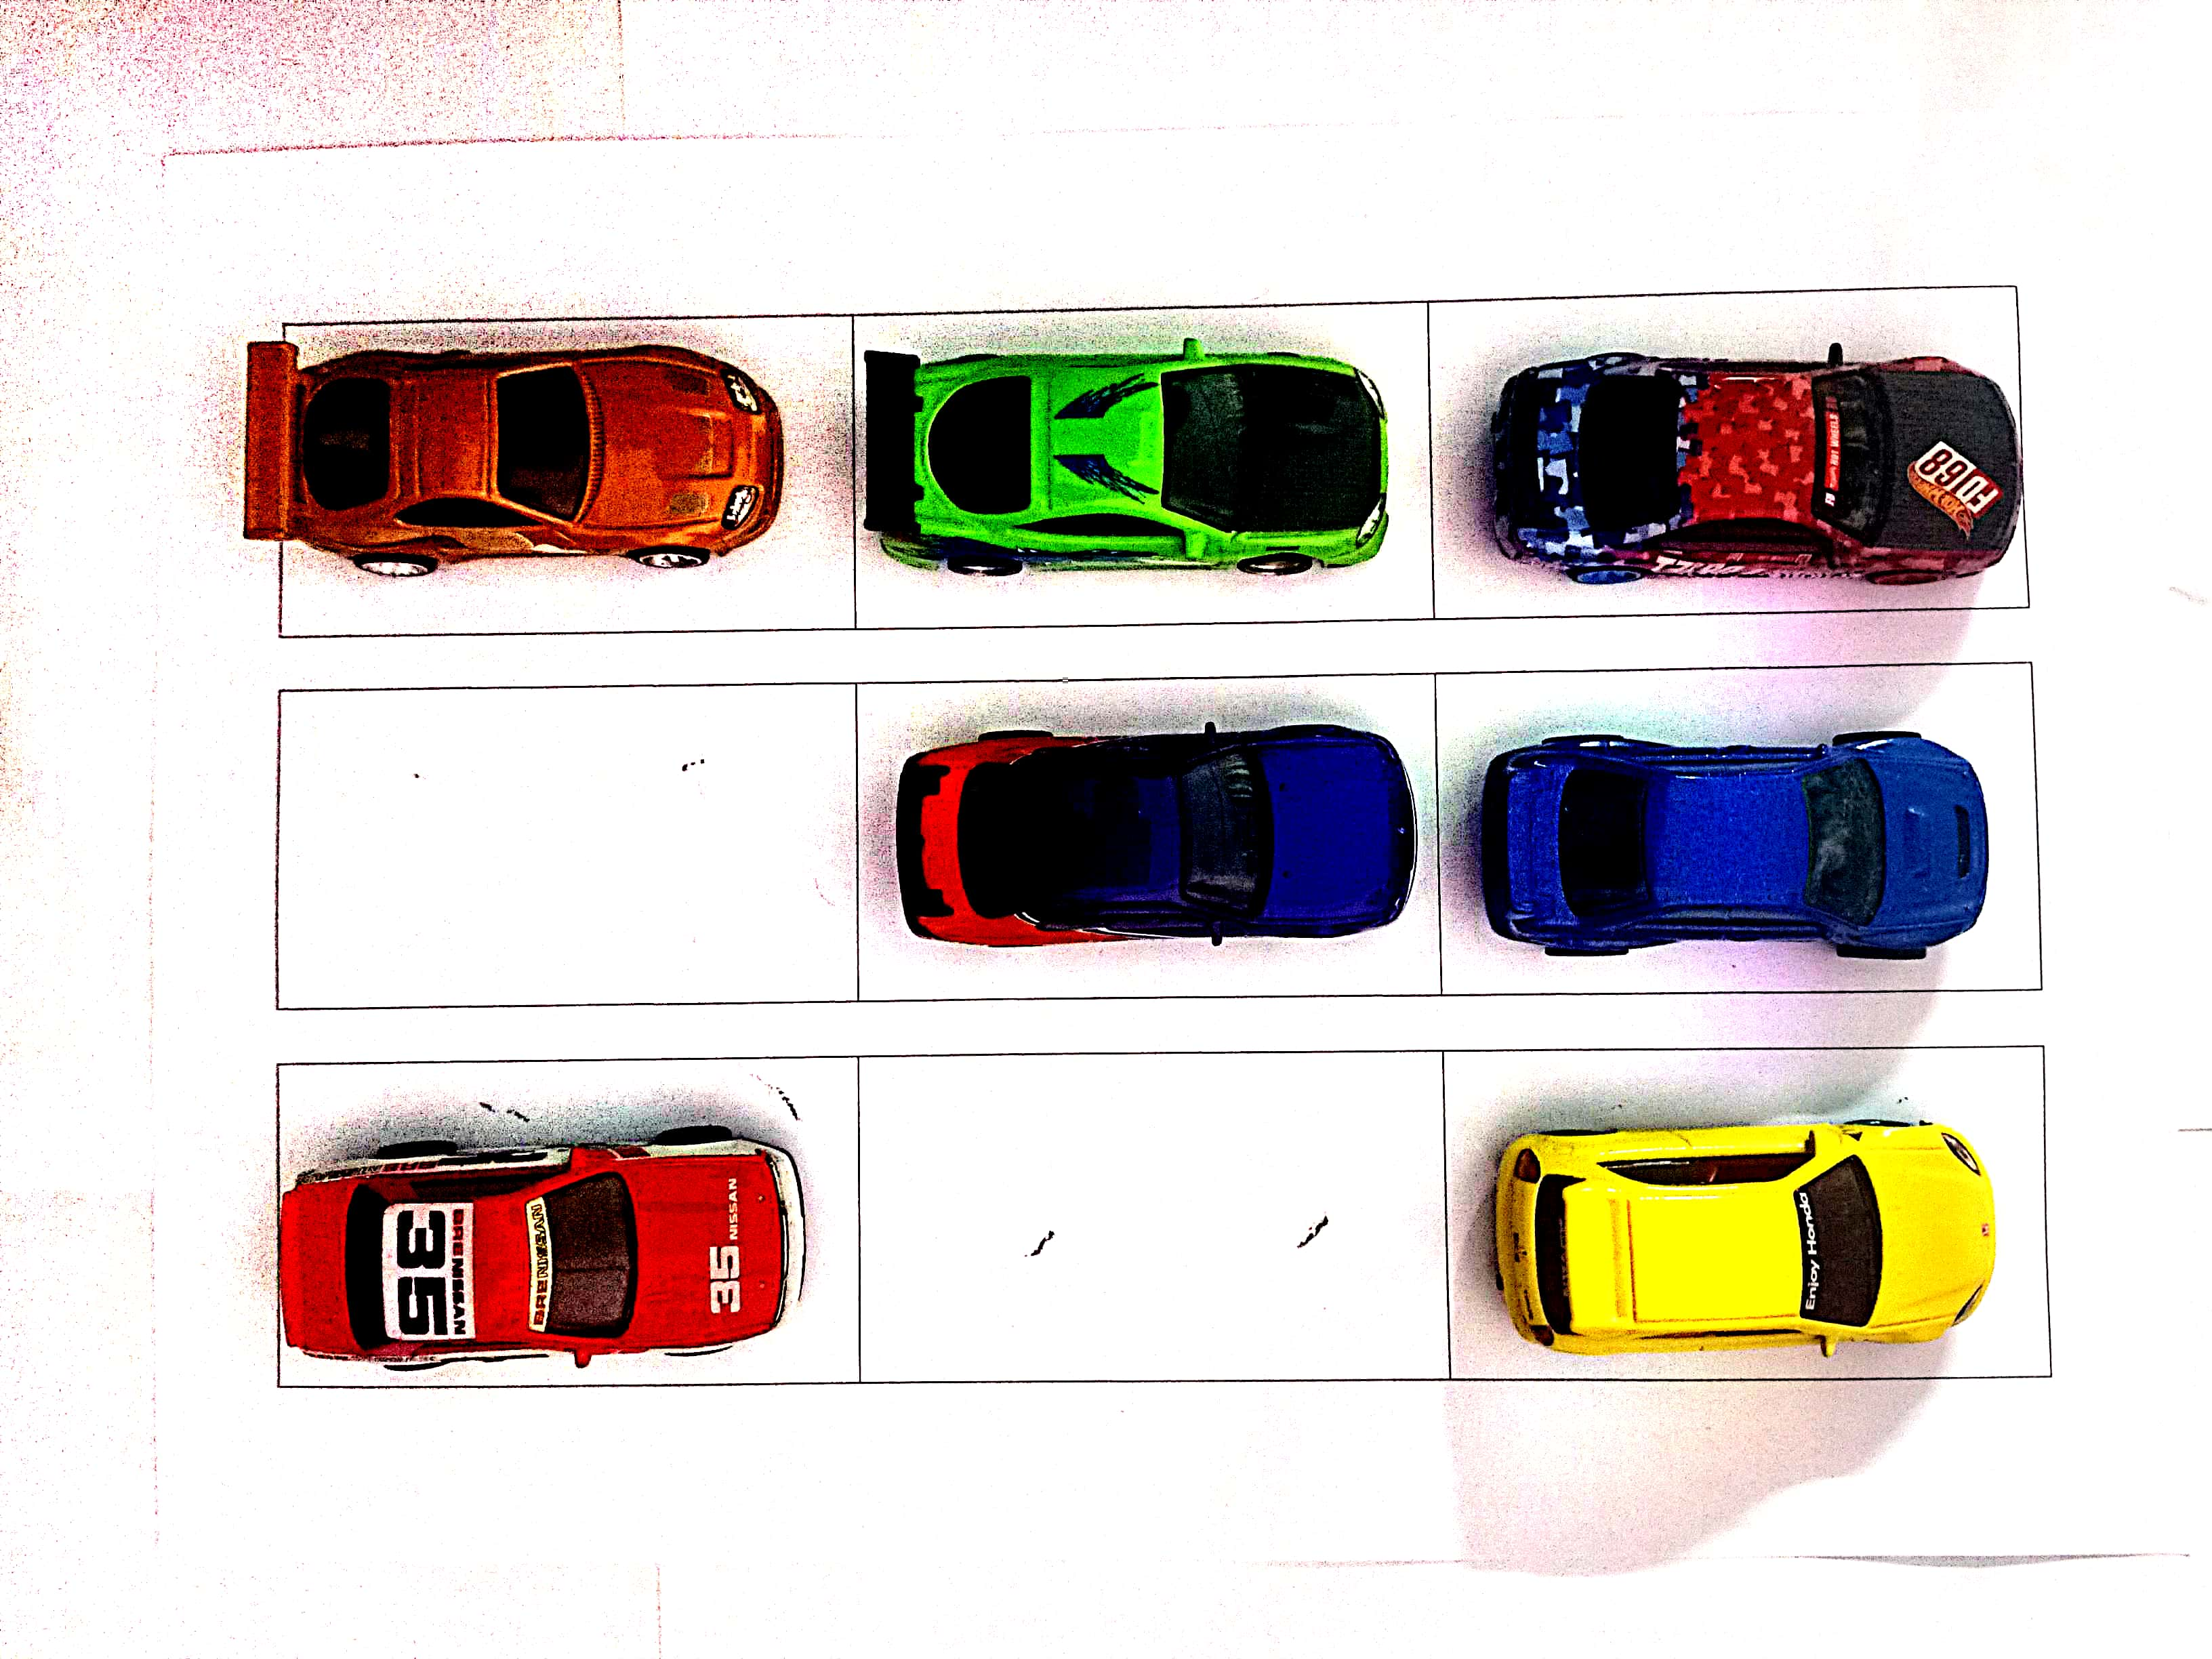Busy: (1446, 1049, 2041, 1384), (1437, 666, 2029, 992), (279, 1058, 848, 1389), (860, 680, 1432, 1002), (1428, 300, 2012, 615), (848, 310, 1423, 624), (273, 317, 845, 633)
Free: (268, 688, 848, 1009), (857, 1058, 1433, 1378)
